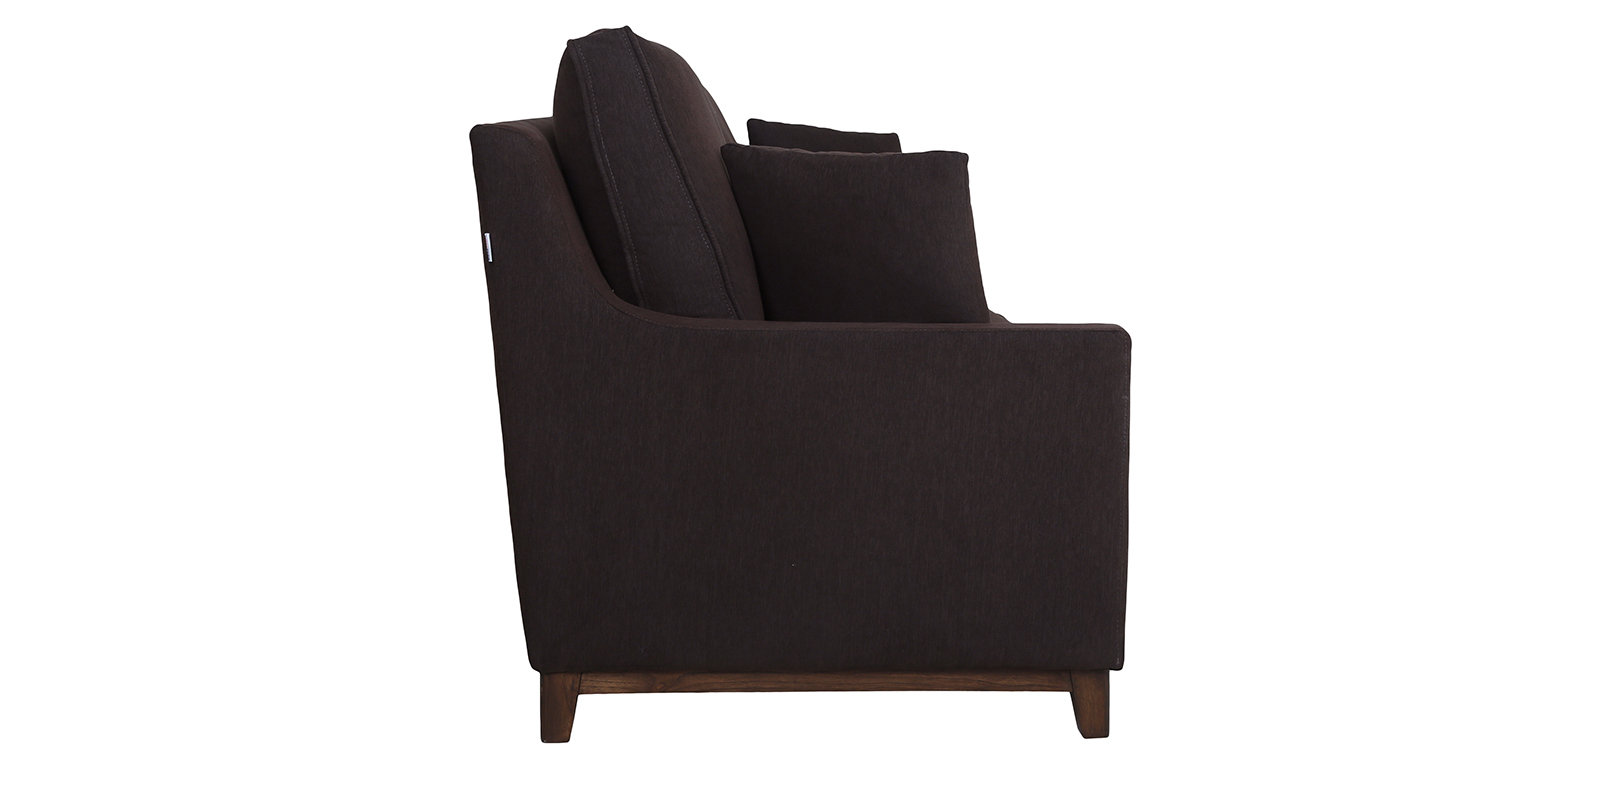Diego Three Seater Sofa in Chestnut Brown Colour by CasaCraft: (461, 21, 1131, 738)
